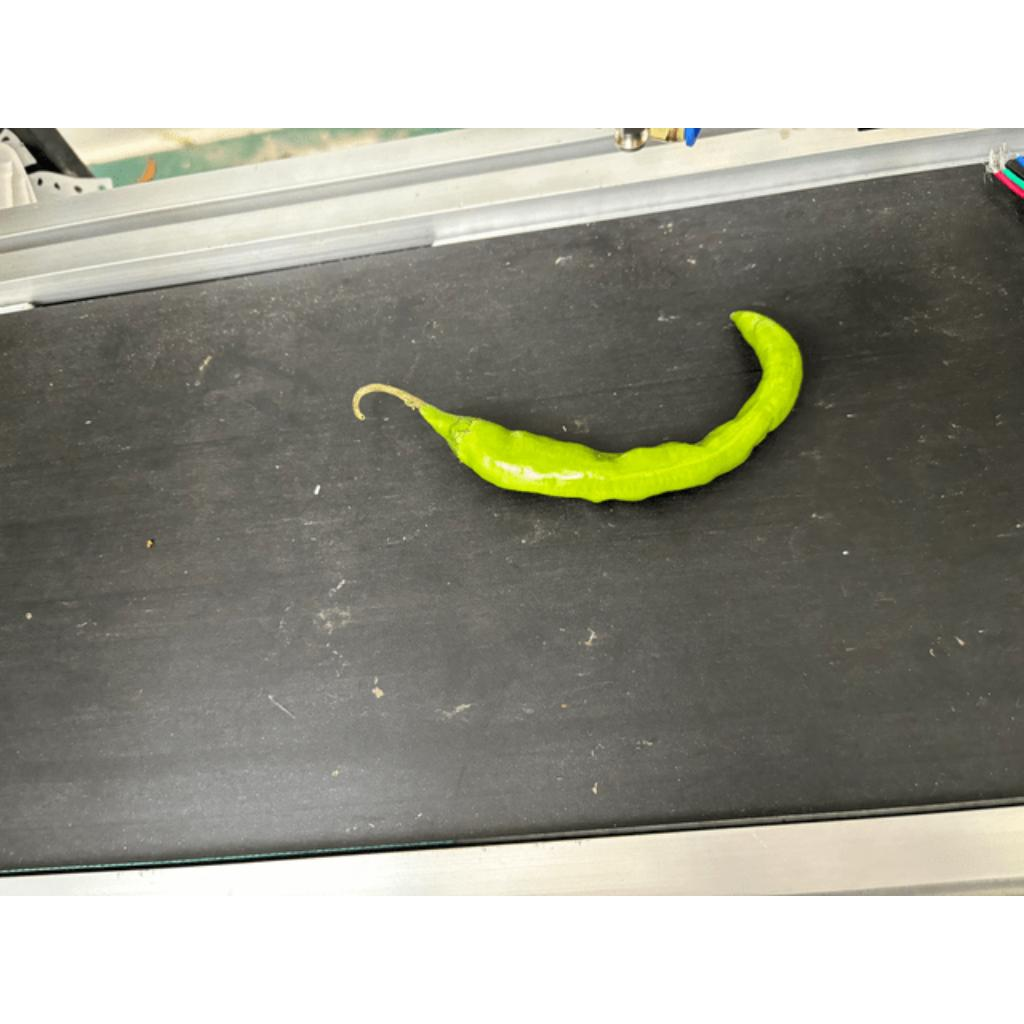chili: (440, 309, 805, 508)
